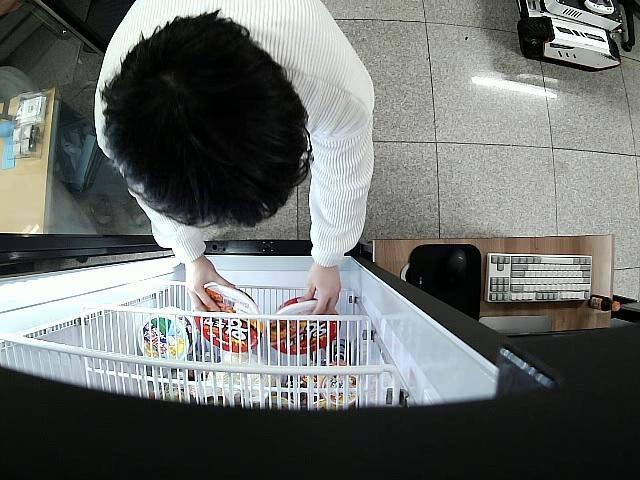10_wangTtukkeong: (194, 284, 262, 354), (268, 296, 340, 354)
